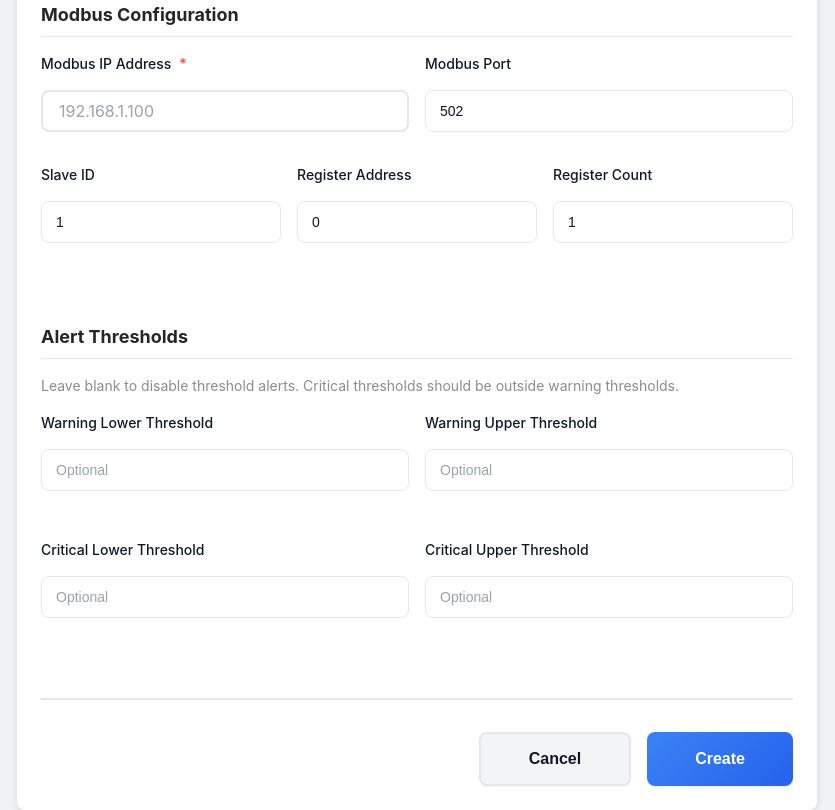
Test: DeviceForm Component › Validation › should validate required name field
(page scrolled)
Click the button "Create". click: (720, 759)
box: [647,732,793,786]
(page scrolled)
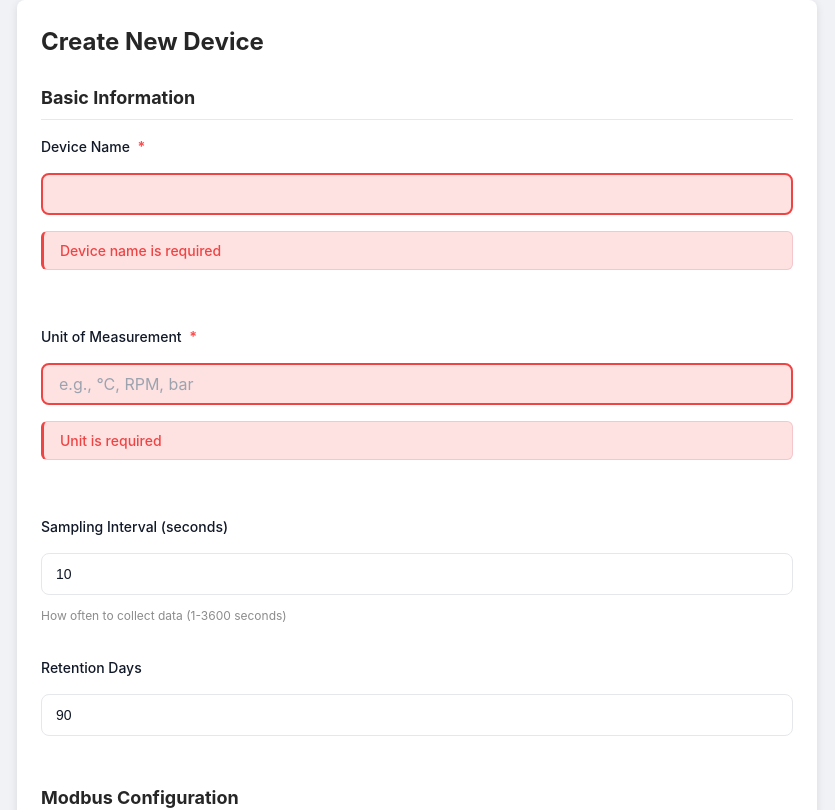
Now the text "Device name is required" is shown, box [41,231,793,270]
